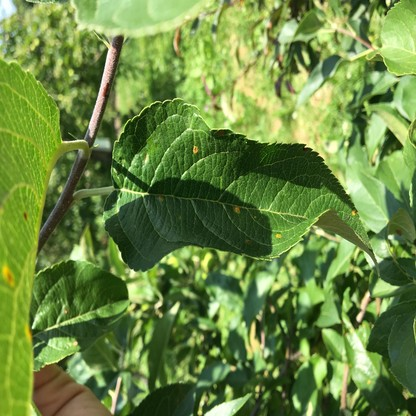rust: (1, 263, 15, 287), (25, 323, 32, 341), (158, 194, 165, 202), (233, 205, 240, 212), (192, 145, 198, 153), (245, 237, 250, 243), (353, 210, 357, 217), (275, 233, 281, 237)
